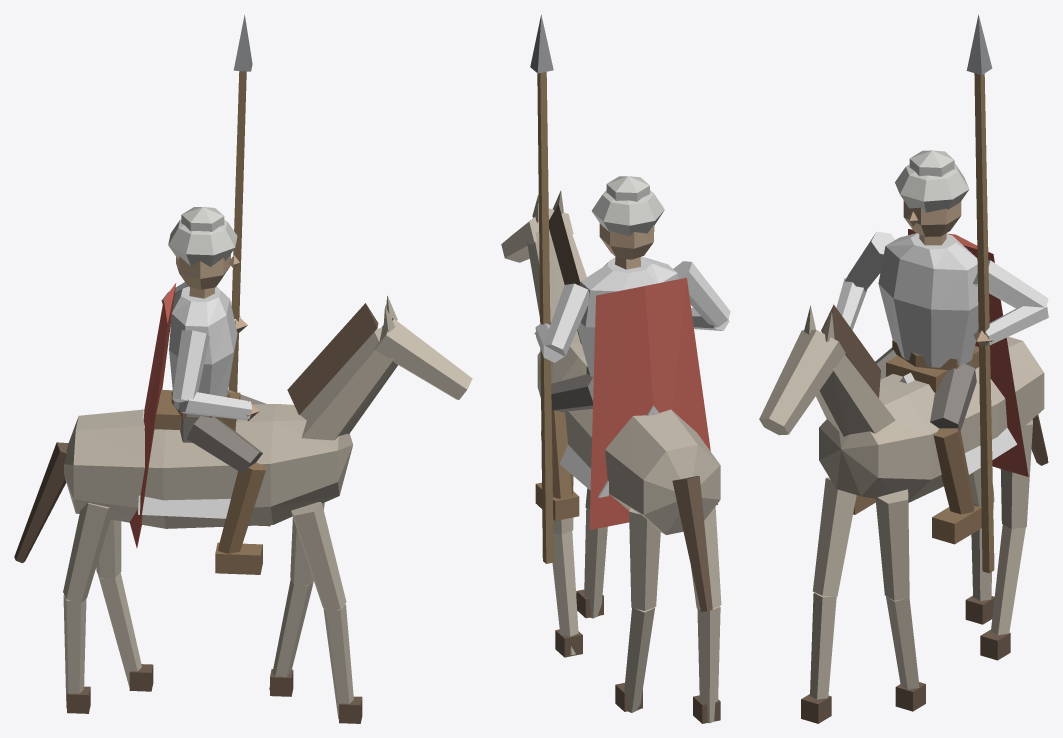
Rendered from sipahi.glb.
The picture shows the model from 3 angles, left to right: view 1: azimuth 30°, elevation 25°; view 2: azimuth 150°, elevation 25°; view 3: azimuth 270°, elevation 25°; orthographic projection. The views are drawn at different scales.
Visible parts, largest first — view 1: LOD0; view 2: LOD0; view 3: LOD0.
Part boxes in pixels (x1,y1,x2,y2): LOD0: (14,15,472,723); LOD0: (501,15,730,723); LOD0: (759,14,1048,723).
Size of what is drawn, in the model's own units: 0.9264 by 1.75 by 0.6671.
